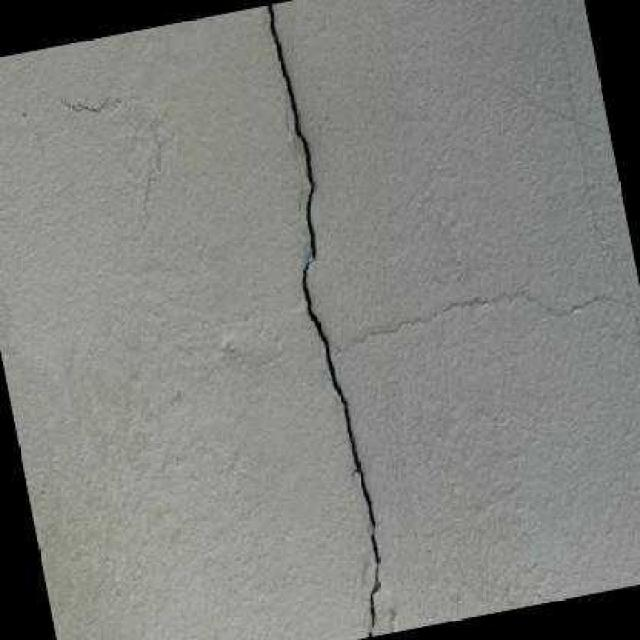D00: (265, 3, 384, 637)
